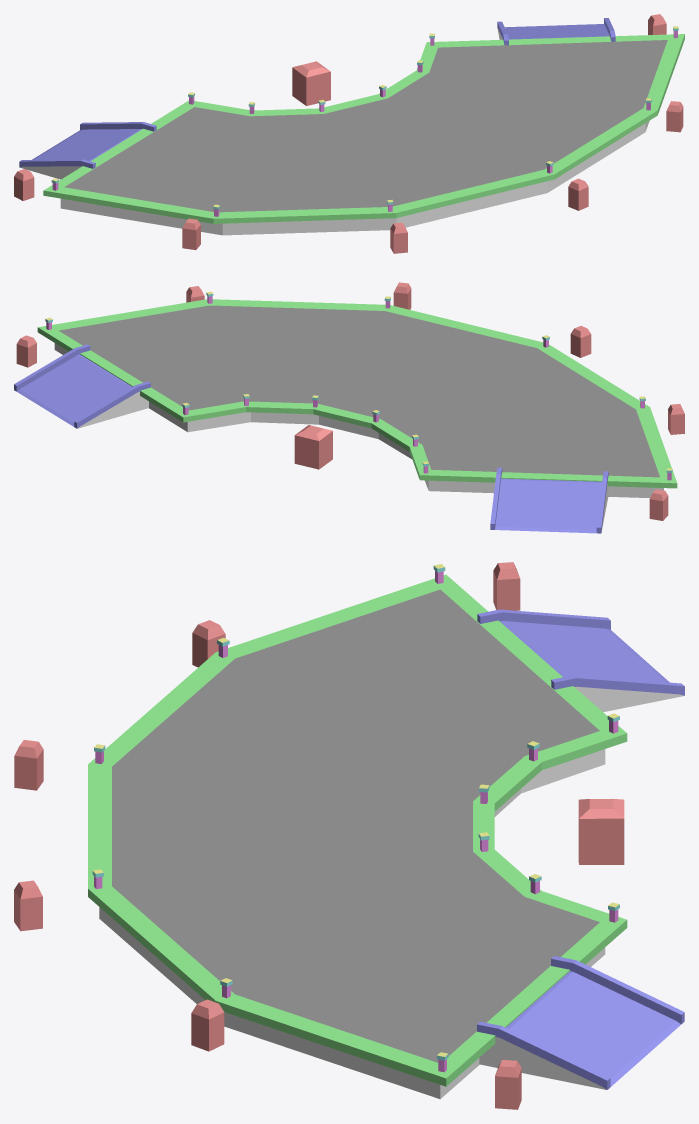
The model's file is L2fortress_02_s__Fort02_medic_base.gltf.
3 renders of one model, top to bottom at view 1: azimuth 30°, elevation 25°; view 2: azimuth 150°, elevation 25°; view 3: azimuth 270°, elevation 25°, orthographic. The views are drawn at different scales.
Visible parts, largest first — view 1: Fort02_medic_base; view 2: Fort02_medic_base; view 3: Fort02_medic_base.
Boxes of the visible parts, x1,y1,x2,y2 form: Fort02_medic_base: [14, 14, 684, 253]; Fort02_medic_base: [14, 282, 684, 533]; Fort02_medic_base: [14, 562, 684, 1109].
Bounding box in the file's own units: 11.47 × 0.5449 × 6.38.
